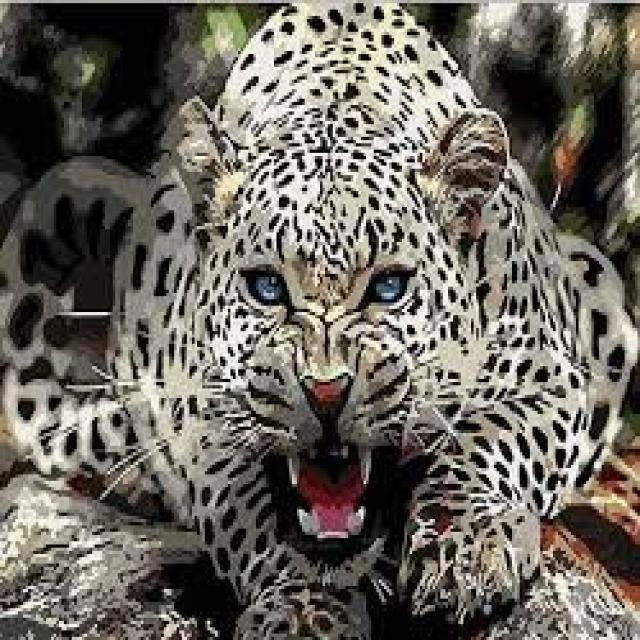Jaguar: (44, 0, 578, 637)
